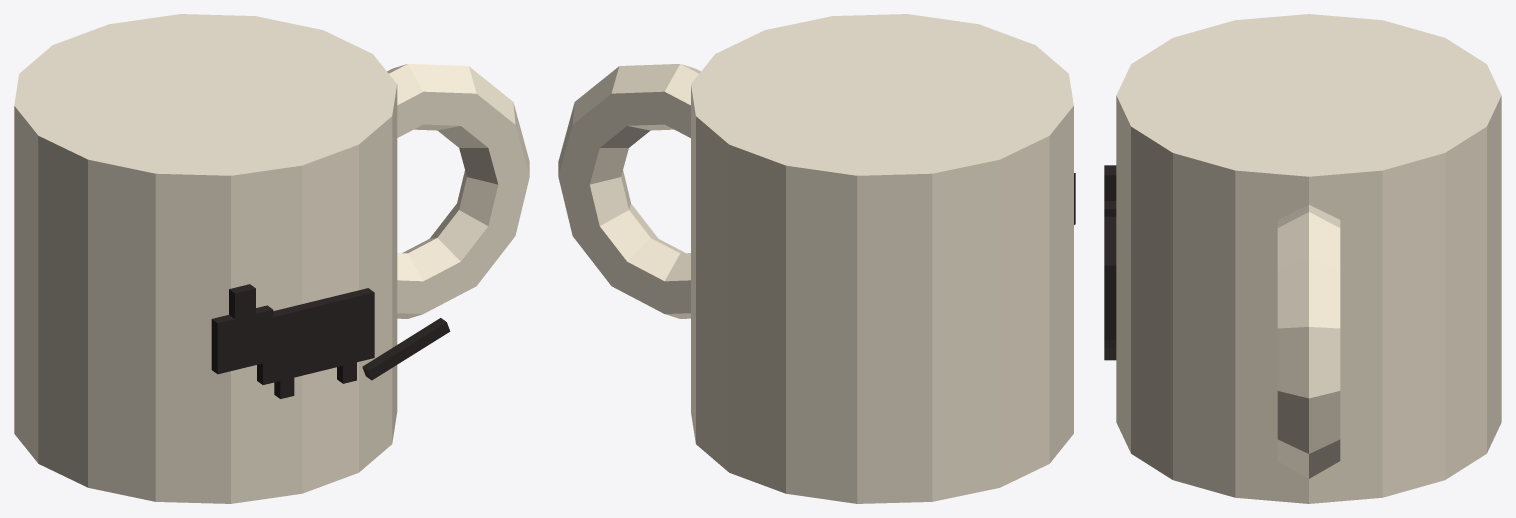
The model's file is mug.glb.
The picture shows the model from 3 angles, left to right: view 1: azimuth 30°, elevation 25°; view 2: azimuth 150°, elevation 25°; view 3: azimuth 270°, elevation 25°; orthographic projection.
Visible parts, largest first — view 1: mug; view 2: mug; view 3: mug.
Part boxes in pixels (left/top/right/bottom): mug: left=14, top=14, right=529, bottom=503; mug: left=558, top=14, right=1075, bottom=503; mug: left=1104, top=14, right=1501, bottom=503.
Bounding box in the file's own units: 0.141 × 0.09 × 0.099.
